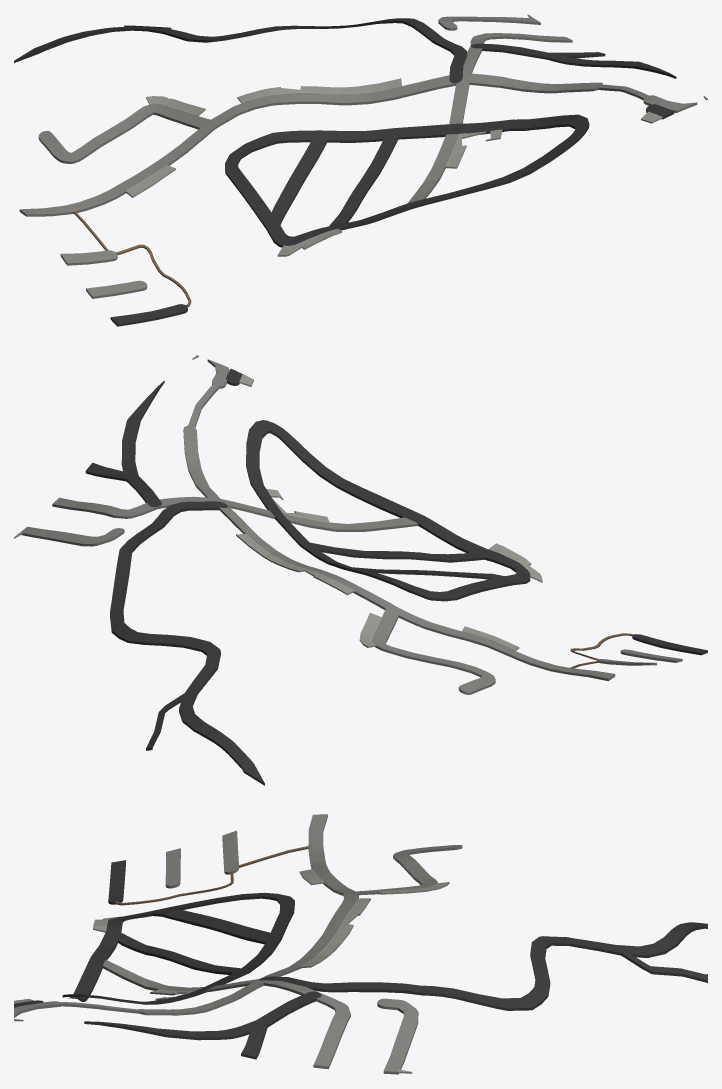
3 renders of one model, top to bottom at view 1: azimuth 30°, elevation 25°; view 2: azimuth 150°, elevation 25°; view 3: azimuth 270°, elevation 25°, orthographic. The views are drawn at different scales.
Size of the model in its own units: 293 by 66.37 by 291.
